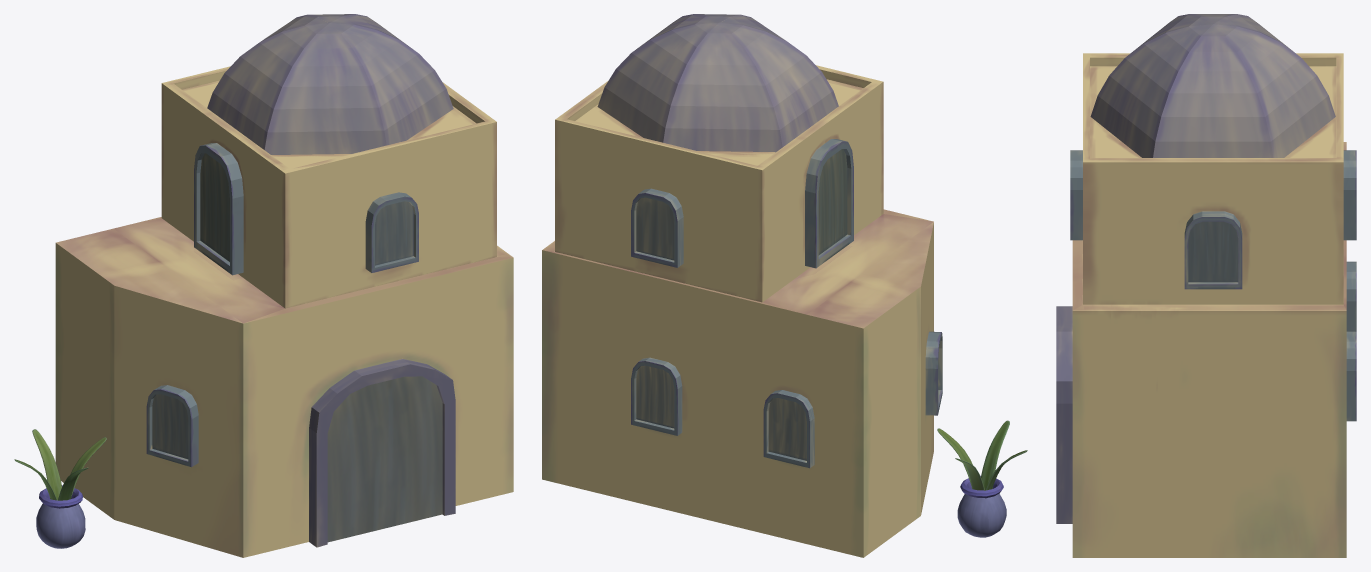
3 views of the same model, side by side, from view 1: azimuth 30°, elevation 25°; view 2: azimuth 150°, elevation 25°; view 3: azimuth 270°, elevation 25° (orthographic). The views are drawn at different scales.
Parts seen in each view (by area): view 1: bina_3, saksı, cıcek; view 2: bina_3, saksı, cıcek; view 3: bina_3.
Part boxes in pixels (x1,y1,x2,y2): bina_3: (55,14,513,557); saksı: (36,485,85,548); cıcek: (14,429,106,500); bina_3: (542,14,942,557); saksı: (957,475,1006,537); cıcek: (937,420,1027,490); bina_3: (1056,14,1356,557).
Size of the model in its own units: 1721 by 1739 by 982.
3 materials, 3 textured.
